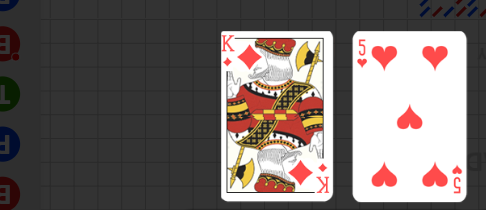5H: (356, 38, 369, 69)
KD: (221, 34, 234, 68)
